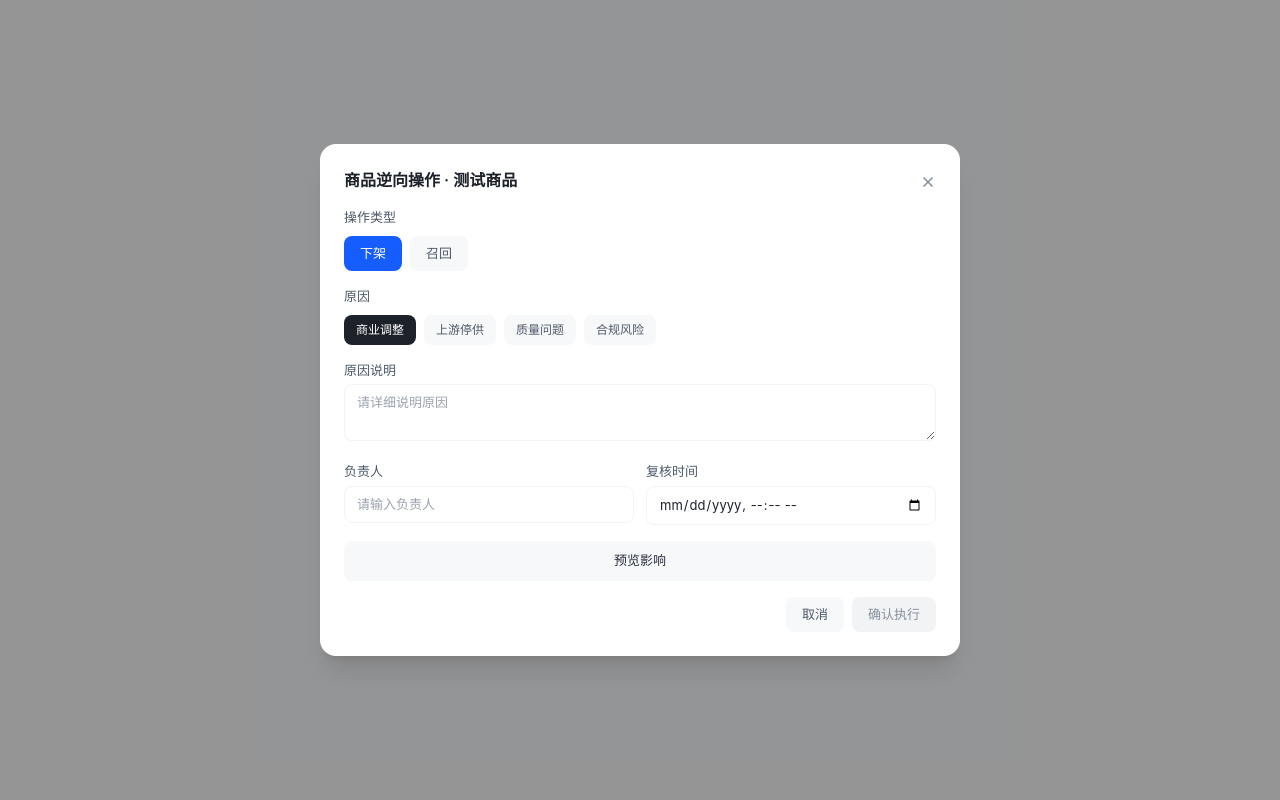
Test case: ProductReverseActionModal › review time not later than now blocks preview
Type "Test reason" into the text box with test id "reason-detail-input".
click(640, 412); type("Test reason")  # box [344,384,936,441]
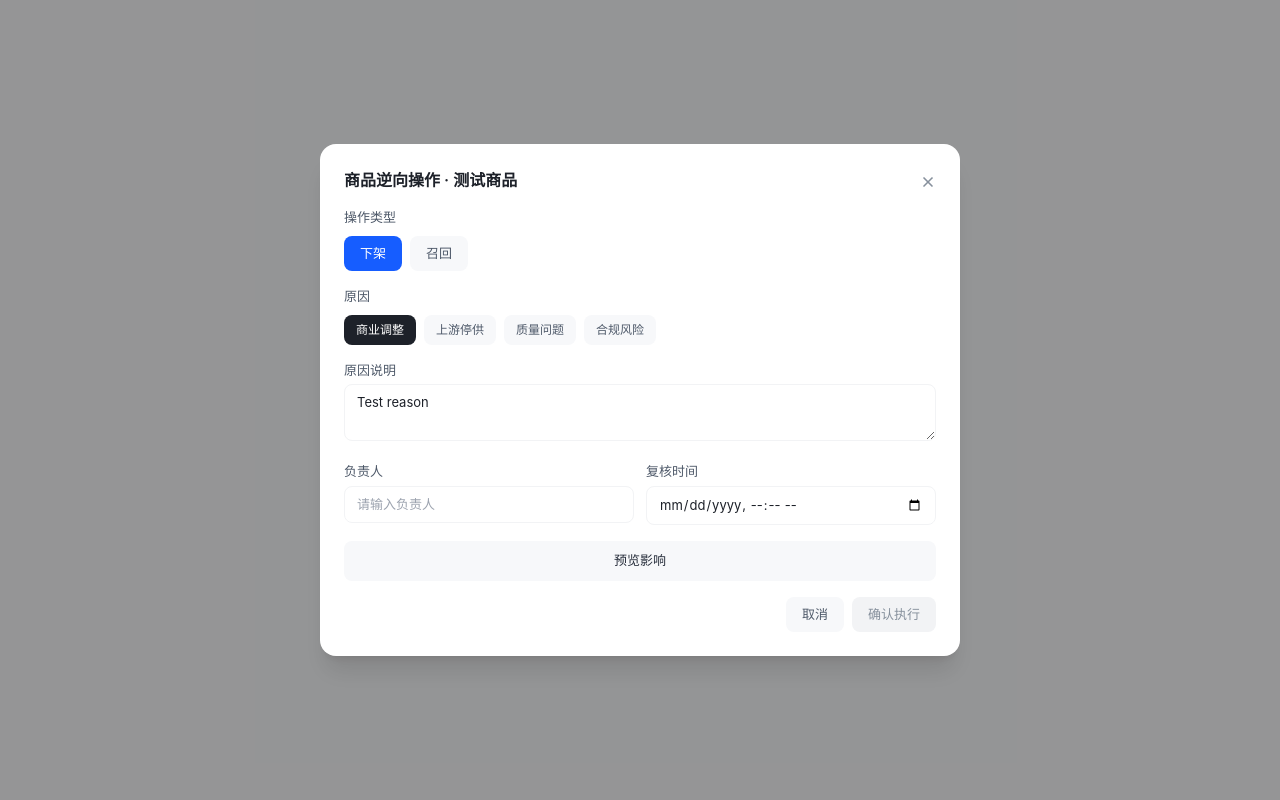
Type "operator-a" into the field with test id "owner-input".
click(489, 504); type("operator-a")  # box [344,486,634,523]
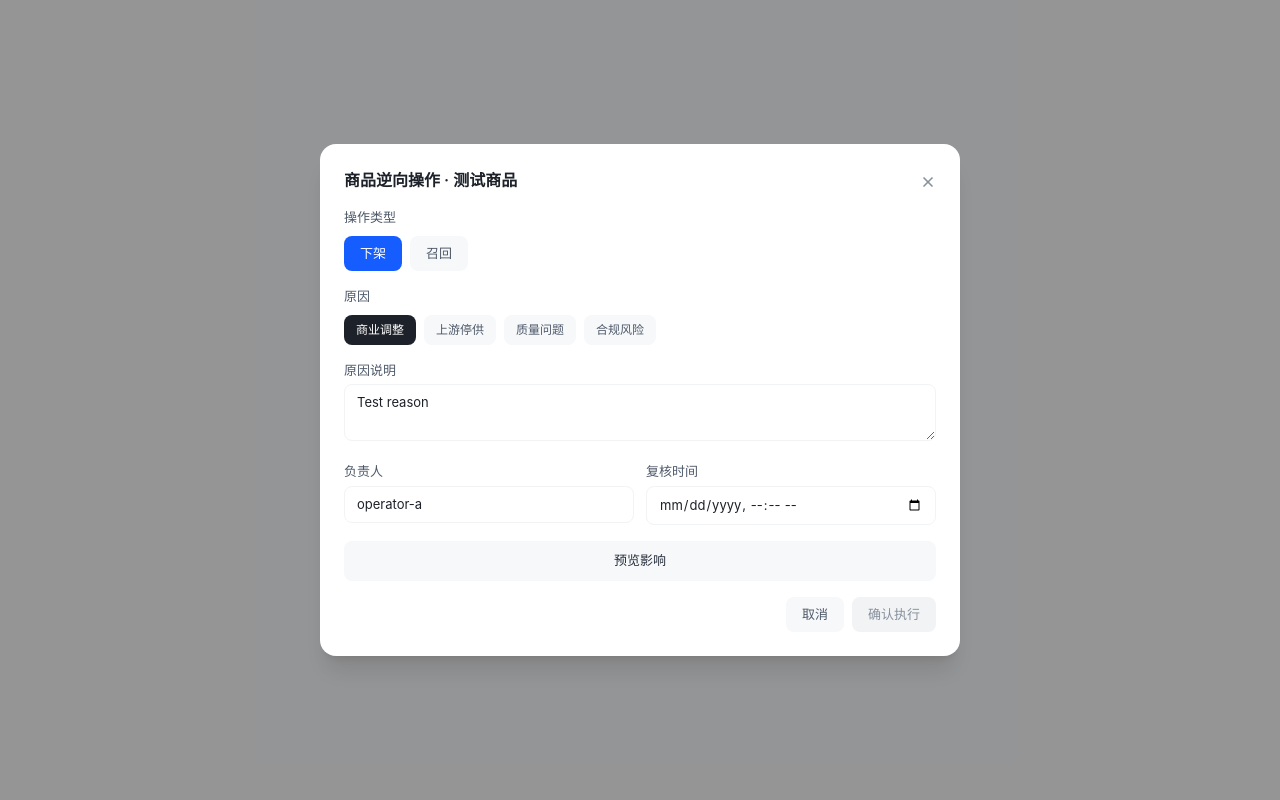
# Set review time in the past
Type "2026-07-16T10:00" into the field with test id "review-at-input".
click(791, 505); type("2026-07-16T10:00")  # box [646,486,936,525]
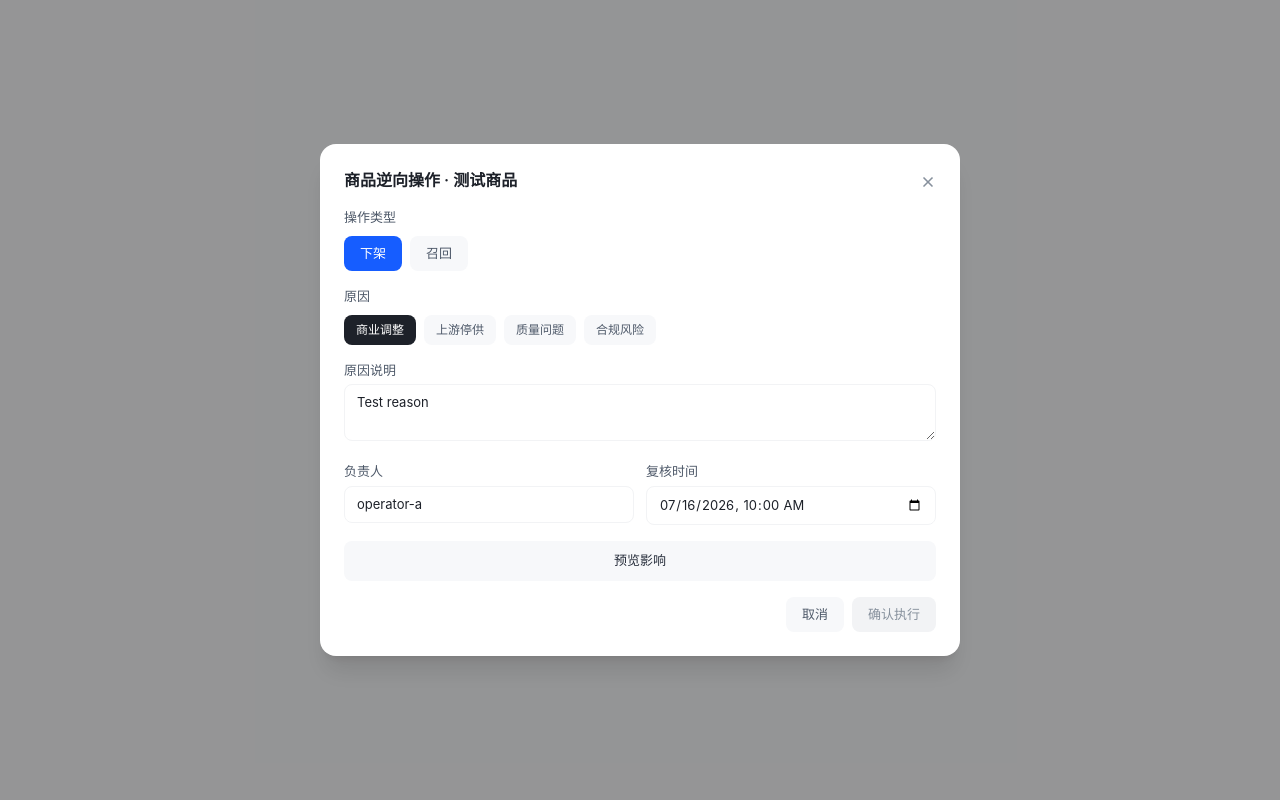
Click the button with test id "preview-btn".
click(640, 561)  # box [344,541,936,580]
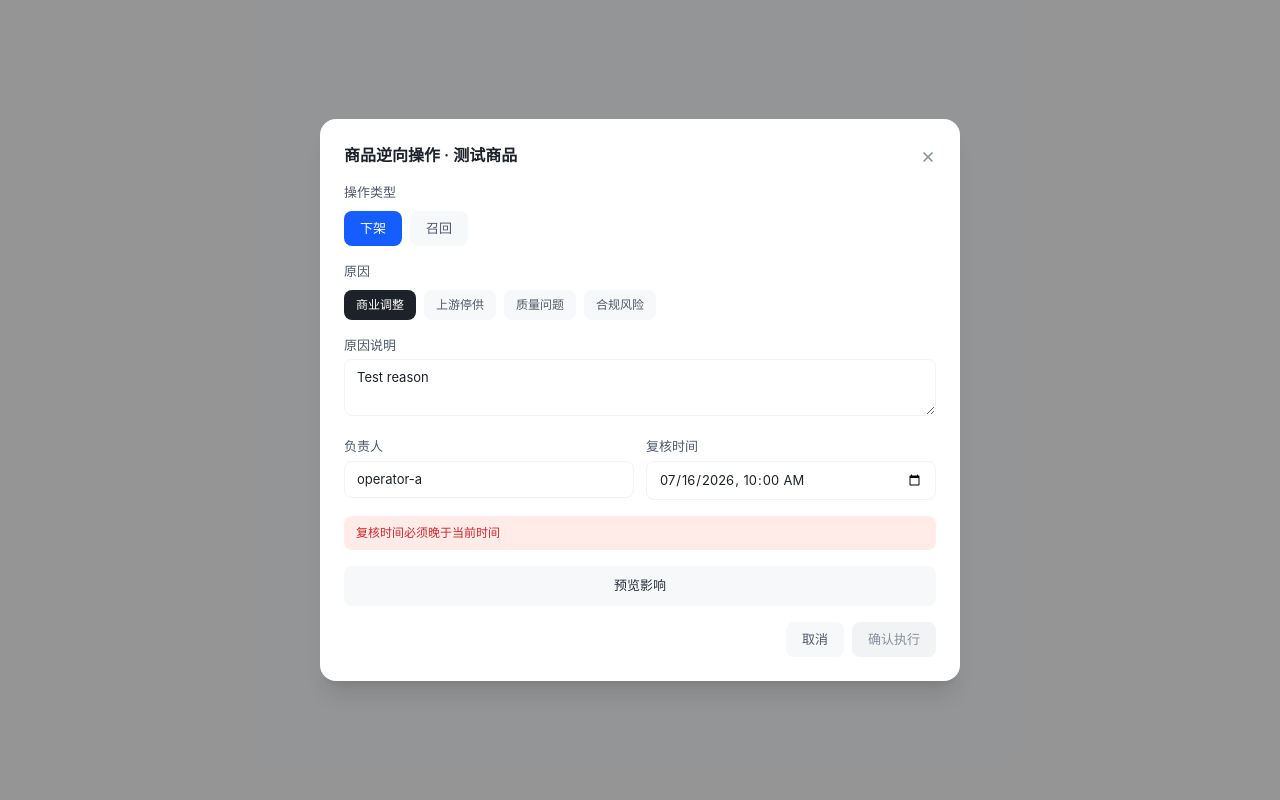
Expected: the text with test id "validation-error" shows "复核时间", [356,525,500,540]
